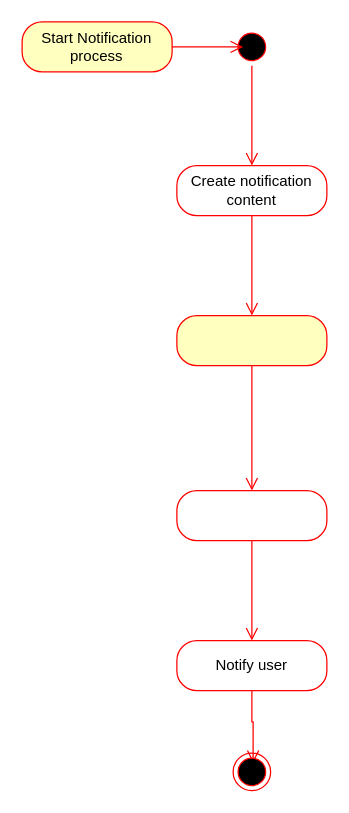
The diagram is 349 pixels wide and 813 high, and some of its shapes have lost their labels. The centre of each missing label's shape, as x and y in pixels:
"Determine Notification tyipe" belongs at (251,340).
"Prepare Notification" belongs at (251,515).
